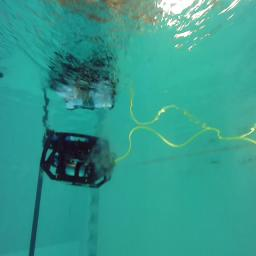Side: (40, 129, 112, 188)
